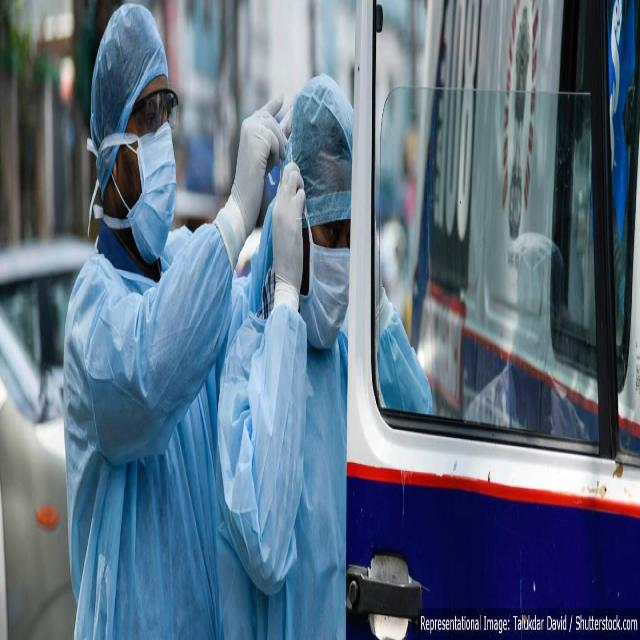Coverall: (62, 0, 225, 637), (217, 69, 346, 637)
Gloves: (218, 90, 290, 272), (273, 157, 307, 309)
Goggles: (135, 86, 182, 132)
Mask: (128, 127, 177, 262), (300, 235, 349, 351)
